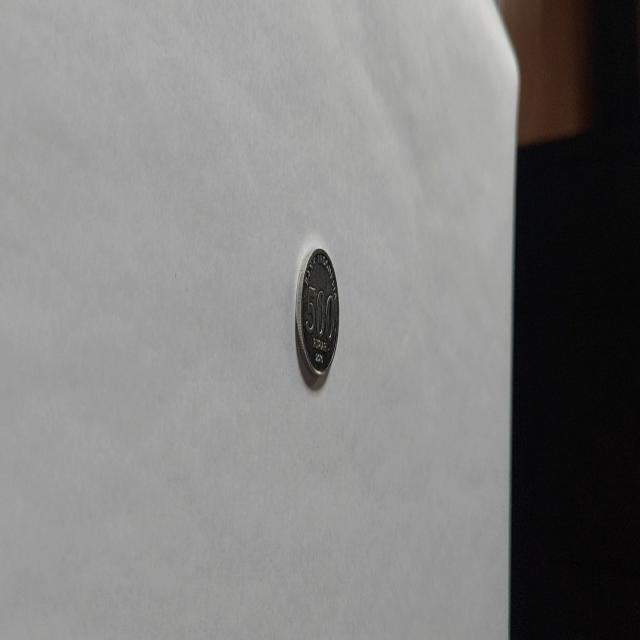lima ratus rupiah: (294, 245, 340, 387)
